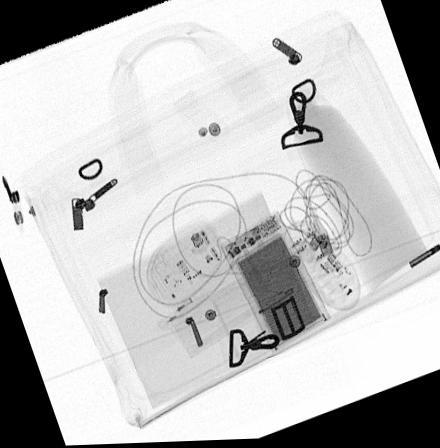Powerbank: (218, 212, 330, 355)
